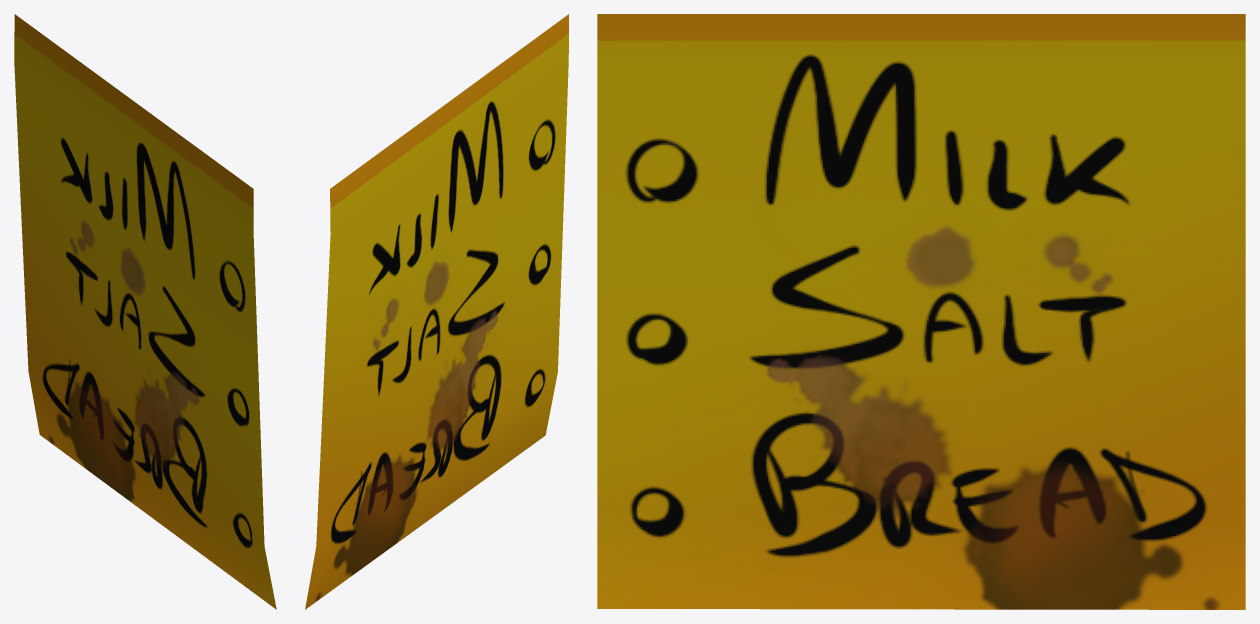
File: Post-it_3.fbx
The picture shows the model from 3 angles, left to right: view 1: azimuth 30°, elevation 25°; view 2: azimuth 150°, elevation 25°; view 3: azimuth 270°, elevation 25°; orthographic projection. The views are drawn at different scales.
Visible parts, largest first — view 1: pPlane15; view 2: pPlane15; view 3: pPlane15.
Boxes of the visible parts, x1,y1,x2,y2 form: pPlane15: [14, 14, 276, 609]; pPlane15: [305, 14, 568, 609]; pPlane15: [597, 14, 1245, 609].
Size of the model in its own units: 0.6166 by 9.86 by 10.
